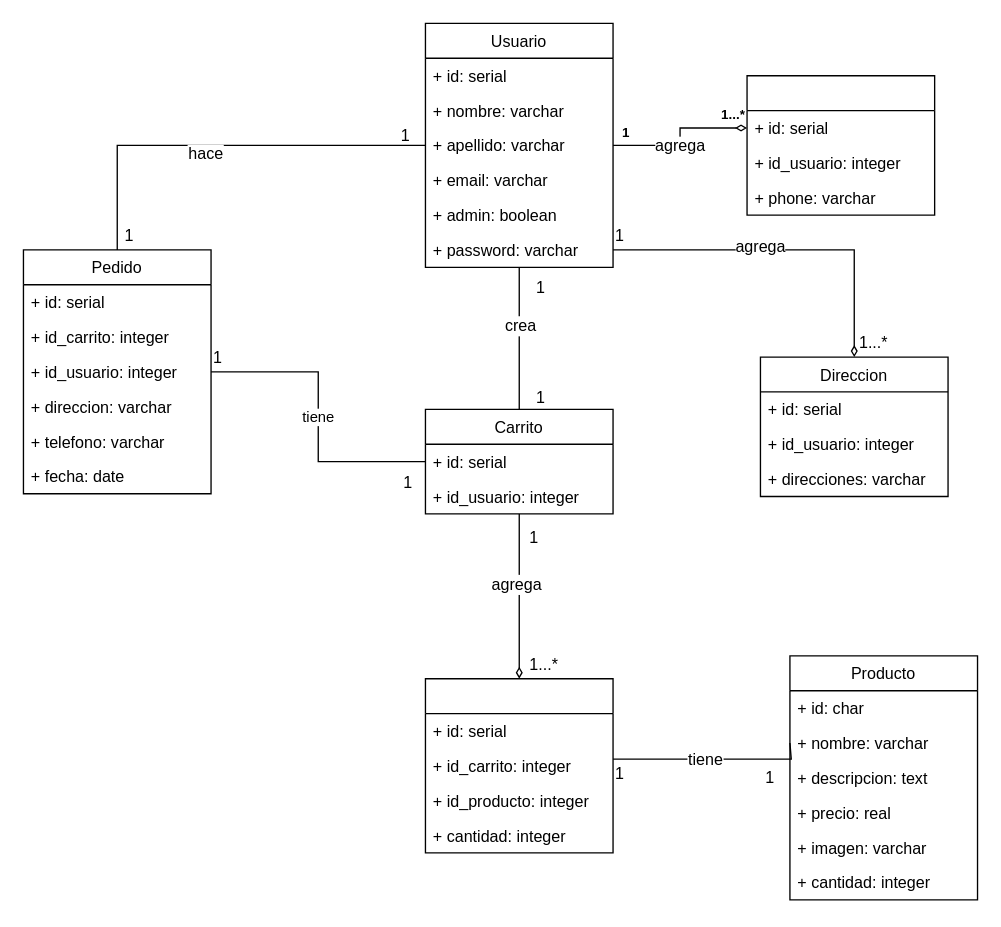
Some shapes in this 1001 by 927 pixel diagram are drawn without their labels. Here are the shapes that lost their labels. From the top down, the box of each, then its label:
(746, 74, 935, 215): Telefono
(424, 677, 613, 853): Elemento Carrito
